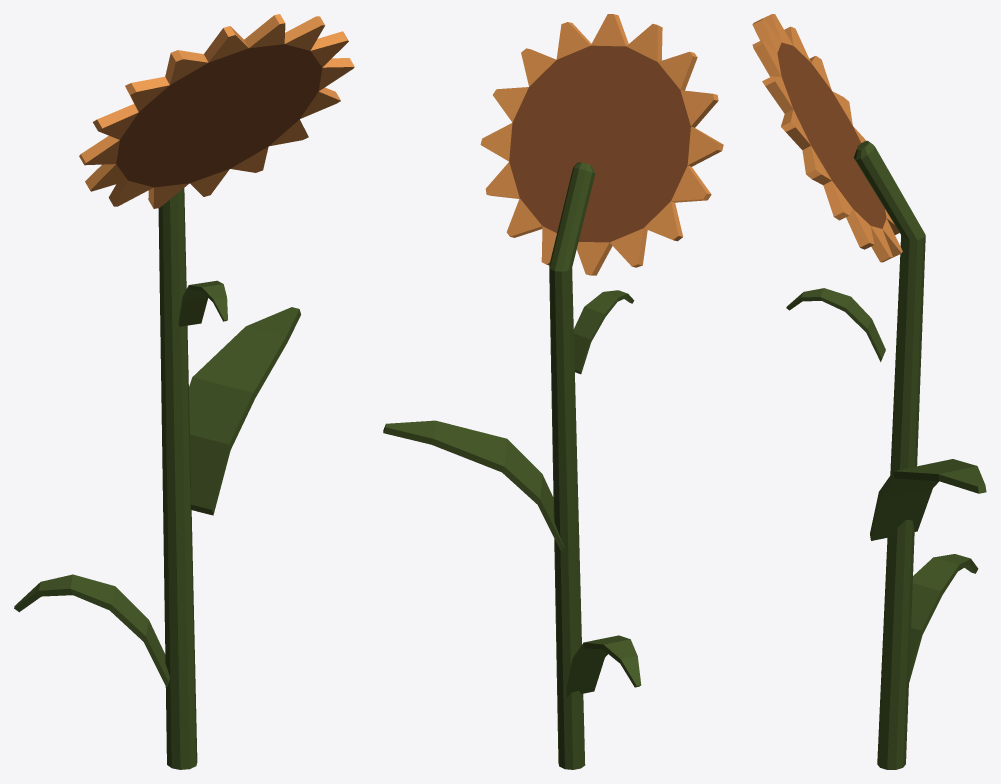
The model's file is SunFlower_2.fbx.
The picture shows the model from 3 angles, left to right: view 1: azimuth 30°, elevation 25°; view 2: azimuth 150°, elevation 25°; view 3: azimuth 270°, elevation 25°; orthographic projection. The views are drawn at different scales.
Visible parts, largest first — view 1: SunFlower_2; view 2: SunFlower_2; view 3: SunFlower_2.
Boxes of the visible parts, x1,y1,x2,y2 form: SunFlower_2: (14, 14, 354, 769); SunFlower_2: (383, 14, 723, 769); SunFlower_2: (752, 14, 986, 769).
Bounding box in the file's own units: 50.57 × 131 × 37.77.
